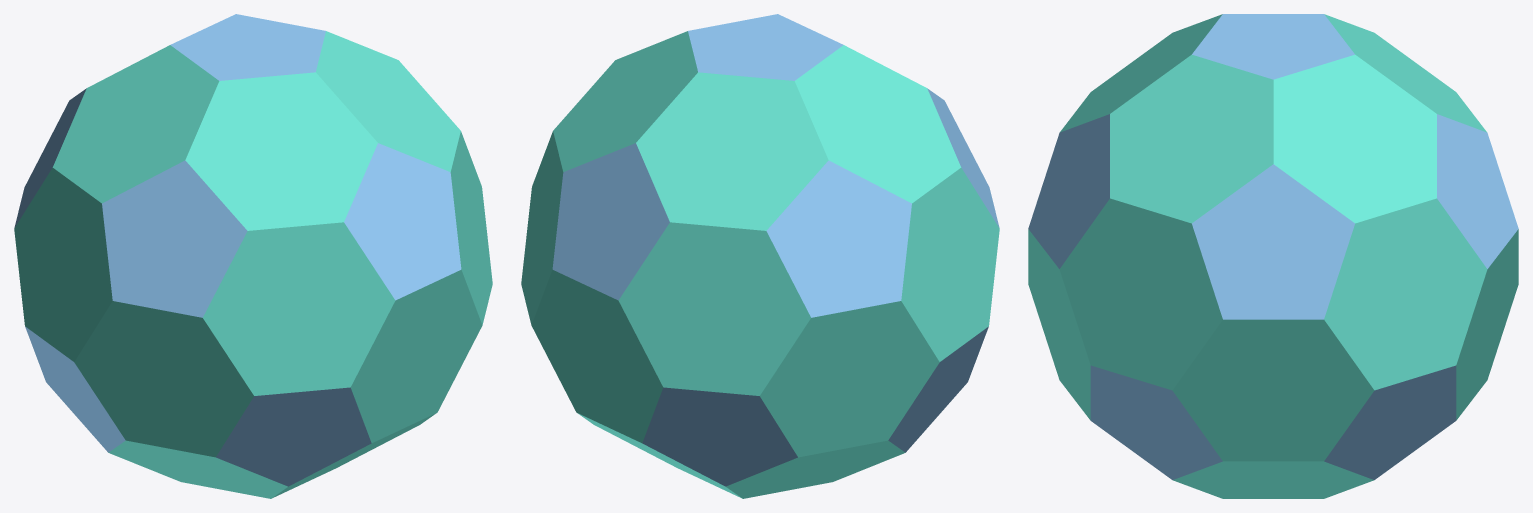
The model's file is ball.fbx.
3 views of the same model, side by side, from view 1: azimuth 30°, elevation 25°; view 2: azimuth 150°, elevation 25°; view 3: azimuth 270°, elevation 25° (orthographic). The views are drawn at different scales.
Parts seen in each view (by area): view 1: Icosphere; view 2: Icosphere; view 3: Icosphere.
Part boxes in pixels (left/top/right/bottom): Icosphere: left=14, top=14, right=492, bottom=498; Icosphere: left=521, top=14, right=999, bottom=498; Icosphere: left=1028, top=14, right=1518, bottom=498.
Size of the model in its own units: 18.42 by 17.95 by 18.71.
